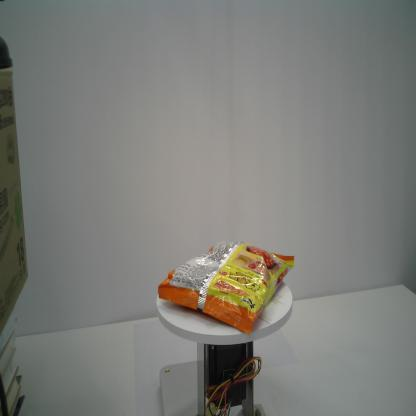Instant Noodles: (157, 240, 296, 337)
